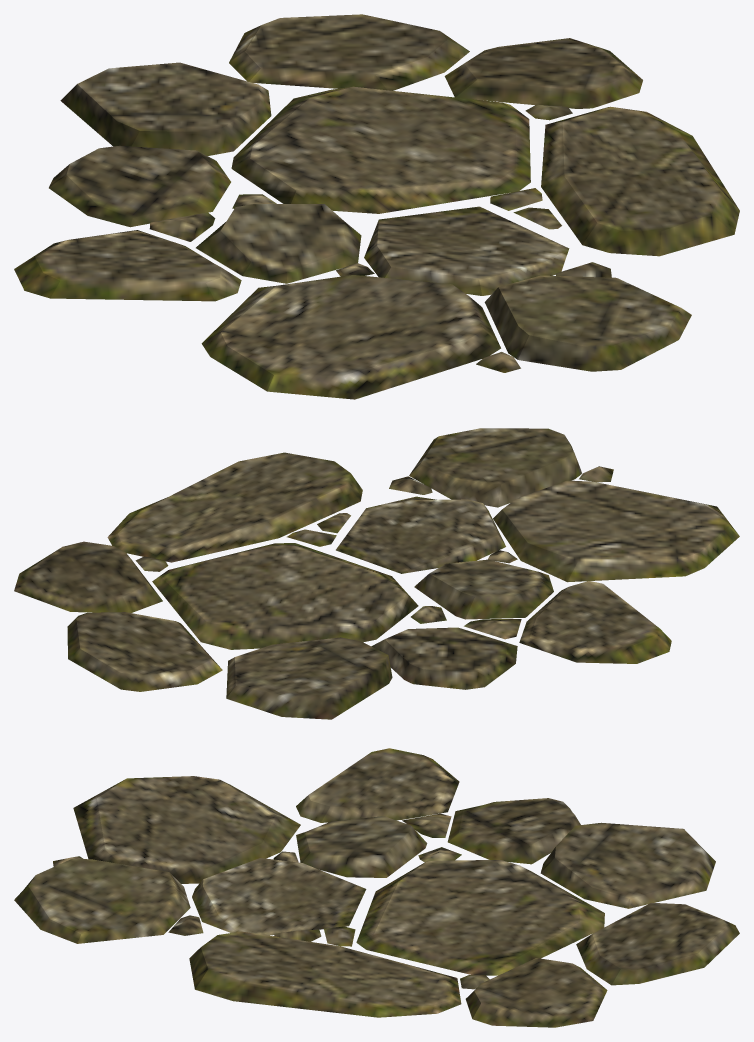
File: SM_Plains_GroundBrick01.FBX
The picture shows the model from 3 angles, top to bottom: view 1: azimuth 30°, elevation 25°; view 2: azimuth 150°, elevation 25°; view 3: azimuth 270°, elevation 25°; orthographic projection. The views are drawn at different scales.
Visible parts, largest first — view 1: SM_Plains_GroundBrick01; view 2: SM_Plains_GroundBrick01; view 3: SM_Plains_GroundBrick01.
Part boxes in pixels (<box>): SM_Plains_GroundBrick01: <box>14,14,739,399</box>; SM_Plains_GroundBrick01: <box>14,428,739,719</box>; SM_Plains_GroundBrick01: <box>14,748,739,1027</box>.
Size of the model in its own units: 143 by 5.19 by 160.
